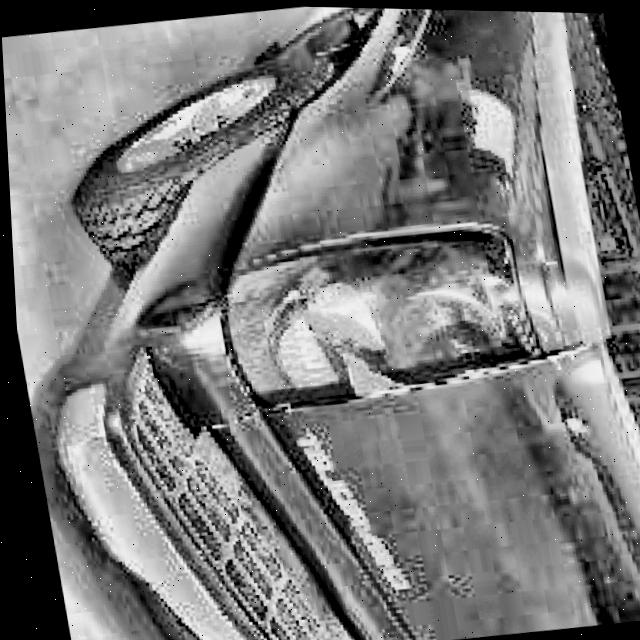tail_lamp: (217, 228, 531, 398)
